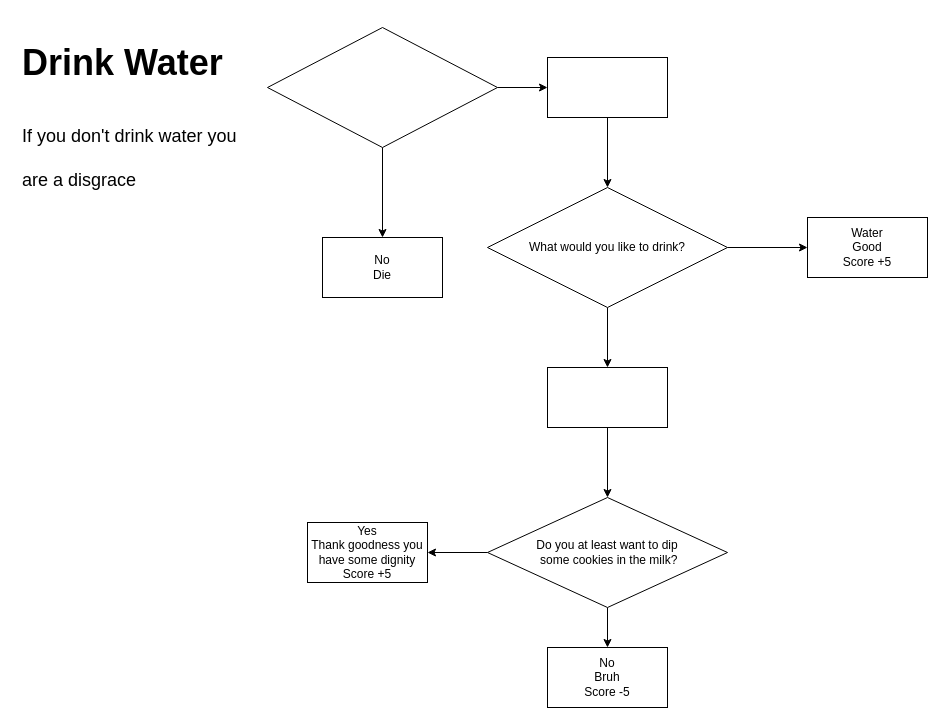
Image size: 945x725. Some labels were removed from this diagram. The shapes that lost their labels are listed below. From the top down, each one's box as (x1, y1, x2, y2) in pixels, then its label:
(266, 26, 498, 148): Are you thirsty?
(546, 56, 668, 118): Yes Score +5
(546, 366, 668, 428): Milk What is wrong with you... Score -5
